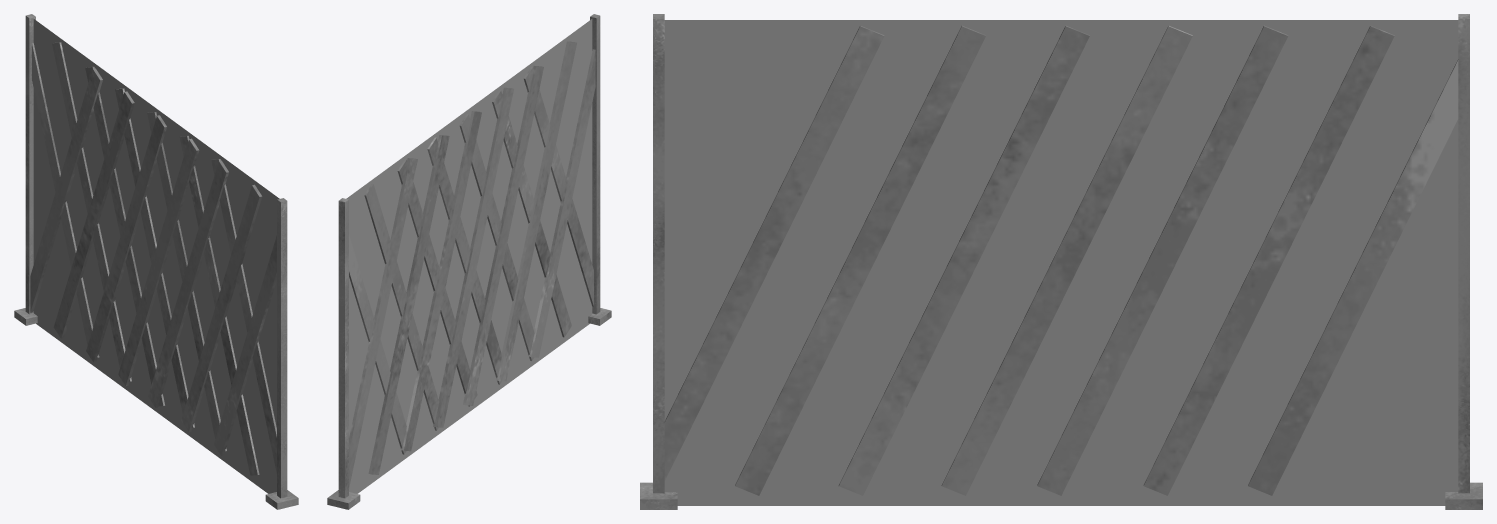
File: barricade.fbx
3 views of the same model, side by side, from view 1: azimuth 30°, elevation 25°; view 2: azimuth 150°, elevation 25°; view 3: azimuth 270°, elevation 25° (orthographic). The views are drawn at different scales.
Visible parts, largest first — view 1: pCube17, pCube9, pCube5; view 2: pCube17, pCube5, pCube9; view 3: pCube17, pCube5, pCube9.
Part boxes in pixels (x1,y1,x2,y2): pCube17: (30, 19, 279, 493); pCube9: (265, 198, 298, 509); pCube5: (14, 14, 37, 325); pCube17: (346, 19, 595, 493); pCube5: (327, 198, 360, 509); pCube9: (588, 14, 611, 325); pCube17: (664, 20, 1458, 505); pCube5: (1445, 14, 1482, 509); pCube9: (640, 14, 677, 509).
Bounding box in the file's own units: 14.65 × 201 × 314.
Materials: 2 (1 with a texture image).
